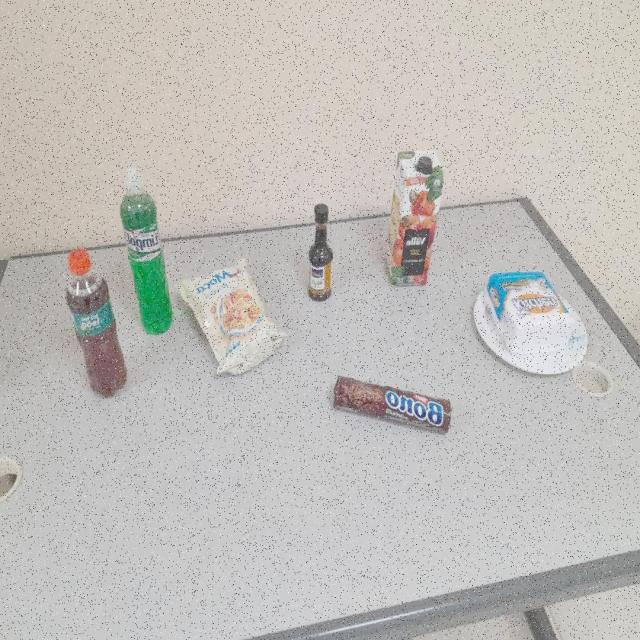Cleaner: (119, 170, 173, 339)
Cookies: (330, 377, 452, 437)
CornFlakes: (182, 261, 284, 379)
EnglishSauce: (307, 204, 333, 300)
IceTea: (64, 252, 127, 399)
